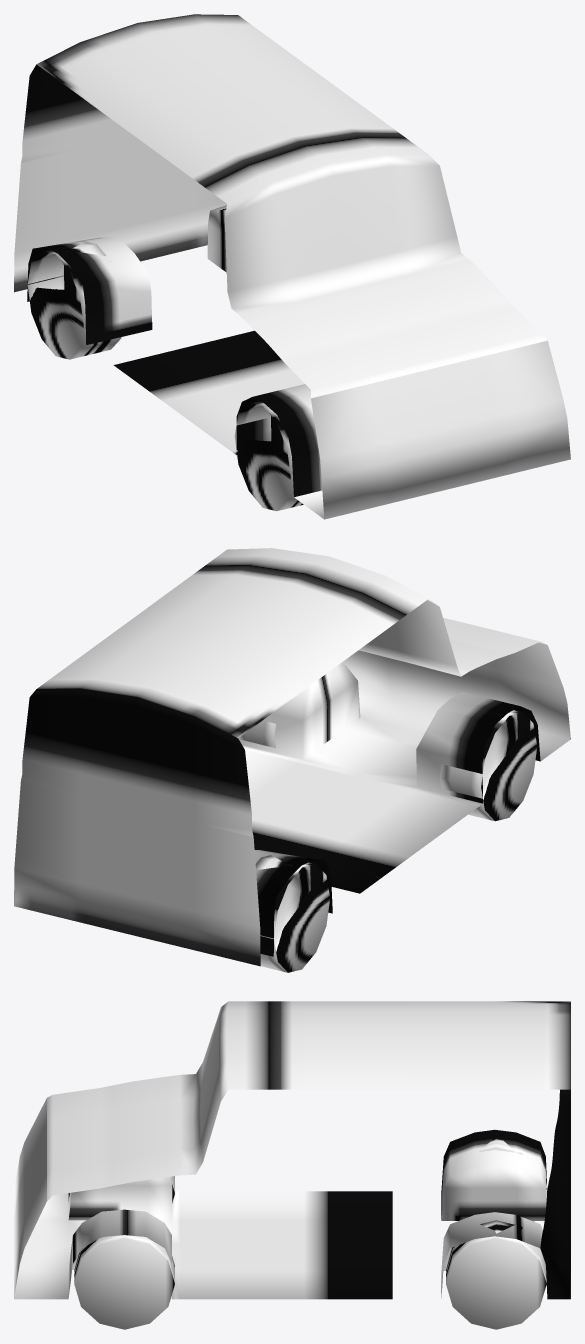
Rendered from carmodel.fbx.
3 views of the same model, one above another, from view 1: azimuth 30°, elevation 25°; view 2: azimuth 150°, elevation 25°; view 3: azimuth 270°, elevation 25° (orthographic). The views are drawn at different scales.
Parts seen in each view (by area): view 1: polySurface1; view 2: polySurface1; view 3: polySurface1.
Part boxes in pixels (<box>): polySurface1: <box>14,14,570,519</box>; polySurface1: <box>14,548,570,972</box>; polySurface1: <box>14,1001,570,1329</box>.
Size of the model in its own units: 5950 by 6253 by 12898.
